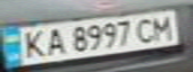7: (115, 18, 136, 47)
8: (66, 23, 90, 53)
9: (84, 21, 106, 52), (100, 20, 121, 50)
A: (39, 25, 69, 56)
C: (133, 16, 160, 44)
K: (15, 27, 51, 61)
M: (148, 12, 178, 41)
